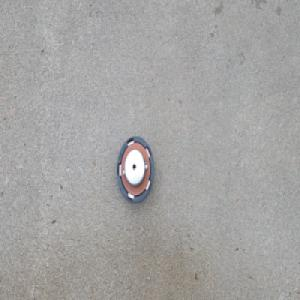FuelCap: (114, 134, 155, 208)
